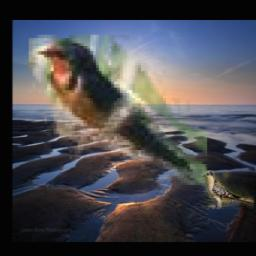Cuckoo: (202, 171, 255, 210)
Swallow: (29, 36, 207, 186)
